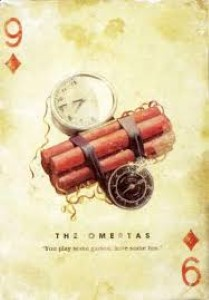NineOfDiamonds: (1, 3, 209, 289)
